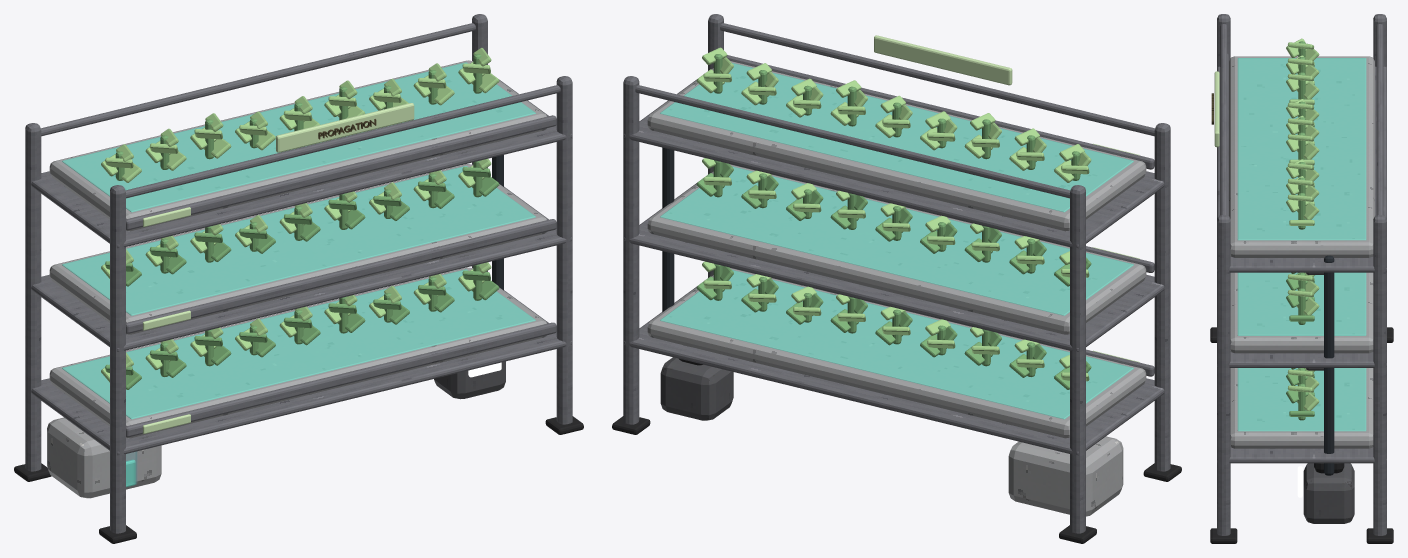
Rendered from decor_bot_hydro_rack.glb.
The picture shows the model from 3 angles, left to right: view 1: azimuth 30°, elevation 25°; view 2: azimuth 150°, elevation 25°; view 3: azimuth 270°, elevation 25°; orthographic projection. The views are drawn at different scales.
Visible parts, largest first — view 1: DEC_BotHydroRack__Tray_1, DEC_BotHydroRack__Tray_2, DEC_BotHydroRack__Tray_3, DEC_BotHydroRack__Tray_Film_2, DEC_BotHydroRack__Tray_Film_1, DEC_BotHydroRack__Tray_Film_3, DEC_BotHydroRack__Shelf_2, DEC_BotHydroRack__Shelf_1, DEC_BotHydroRack__Shelf_3, DEC_BotHydroRack__Upright_140_-46, DEC_BotHydroRack__Upright_-140_46, DEC_BotHydroRack__Upright_-140_-46 (+8 smaller); view 2: DEC_BotHydroRack__Tray_1, DEC_BotHydroRack__Tray_2, DEC_BotHydroRack__Tray_3, DEC_BotHydroRack__Tray_Film_2, DEC_BotHydroRack__Tray_Film_1, DEC_BotHydroRack__Tray_Film_3, DEC_BotHydroRack__Shelf_3, DEC_BotHydroRack__Shelf_2, DEC_BotHydroRack__Shelf_1, DEC_BotHydroRack__Reservoir, DEC_BotHydroRack__Upright_140_46, DEC_BotHydroRack__Upright_-140_-46 (+7 smaller); view 3: DEC_BotHydroRack__Tray_3, DEC_BotHydroRack__Tray_Film_3, DEC_BotHydroRack__Tray_2, DEC_BotHydroRack__Tray_1, DEC_BotHydroRack__Tray_Film_1, DEC_BotHydroRack__Tray_Film_2, DEC_BotHydroRack__Upright_140_46, DEC_BotHydroRack__Upright_140_-46, DEC_BotHydroRack__Shelf_3, DEC_BotHydroRack__Pump_Body, DEC_BotHydroRack__Shelf_1, DEC_BotHydroRack__Shelf_2 (+9 smaller).
Part boxes in pixels (x1,y1,x2,y2): DEC_BotHydroRack__Tray_1: (49, 267, 546, 438); DEC_BotHydroRack__Tray_2: (49, 164, 546, 334); DEC_BotHydroRack__Tray_3: (49, 60, 546, 231); DEC_BotHydroRack__Tray_Film_2: (62, 166, 535, 315); DEC_BotHydroRack__Tray_Film_1: (62, 269, 535, 419); DEC_BotHydroRack__Tray_Film_3: (62, 62, 535, 212); DEC_BotHydroRack__Shelf_2: (31, 186, 572, 351); DEC_BotHydroRack__Shelf_1: (31, 290, 572, 455); DEC_BotHydroRack__Shelf_3: (31, 79, 572, 248); DEC_BotHydroRack__Upright_140_-46: (556, 76, 572, 424); DEC_BotHydroRack__Upright_-140_46: (25, 123, 41, 471); DEC_BotHydroRack__Upright_-140_-46: (110, 185, 125, 533); DEC_BotHydroRack__Tray_1: (647, 268, 1146, 438); DEC_BotHydroRack__Tray_2: (647, 164, 1146, 334); DEC_BotHydroRack__Tray_3: (647, 61, 1146, 231); DEC_BotHydroRack__Tray_Film_2: (660, 166, 1133, 315); DEC_BotHydroRack__Tray_Film_1: (660, 270, 1133, 419); DEC_BotHydroRack__Tray_Film_3: (660, 63, 1133, 212); DEC_BotHydroRack__Shelf_3: (623, 79, 1164, 248); DEC_BotHydroRack__Shelf_2: (623, 182, 1164, 351); DEC_BotHydroRack__Shelf_1: (623, 286, 1164, 455); DEC_BotHydroRack__Reservoir: (1008, 436, 1123, 516); DEC_BotHydroRack__Upright_140_46: (623, 76, 639, 424); DEC_BotHydroRack__Upright_-140_-46: (1154, 123, 1170, 471); DEC_BotHydroRack__Tray_3: (1229, 56, 1374, 257); DEC_BotHydroRack__Tray_Film_3: (1237, 58, 1366, 240); DEC_BotHydroRack__Tray_2: (1230, 272, 1373, 353); DEC_BotHydroRack__Tray_1: (1230, 368, 1373, 448); DEC_BotHydroRack__Tray_Film_1: (1237, 368, 1366, 431); DEC_BotHydroRack__Tray_Film_2: (1237, 272, 1366, 335); DEC_BotHydroRack__Upright_140_46: (1373, 215, 1386, 535); DEC_BotHydroRack__Upright_140_-46: (1217, 215, 1230, 535); DEC_BotHydroRack__Shelf_3: (1217, 66, 1386, 272); DEC_BotHydroRack__Pump_Body: (1303, 463, 1354, 523); DEC_BotHydroRack__Shelf_1: (1217, 447, 1386, 463); DEC_BotHydroRack__Shelf_2: (1217, 352, 1386, 367).
Bounding box in the file's own units: 2.96 × 2.19 × 1.08.
Materials: 13 (4 with a texture image).
